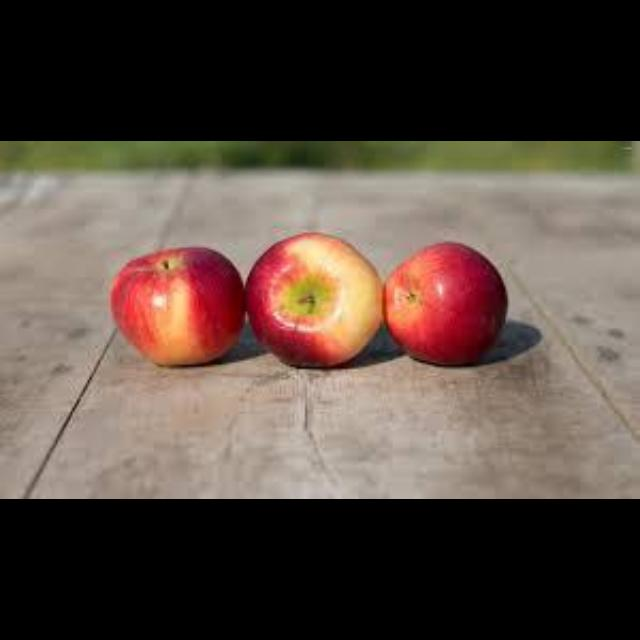apple: (245, 233, 382, 367), (111, 248, 243, 363), (384, 241, 506, 363)
